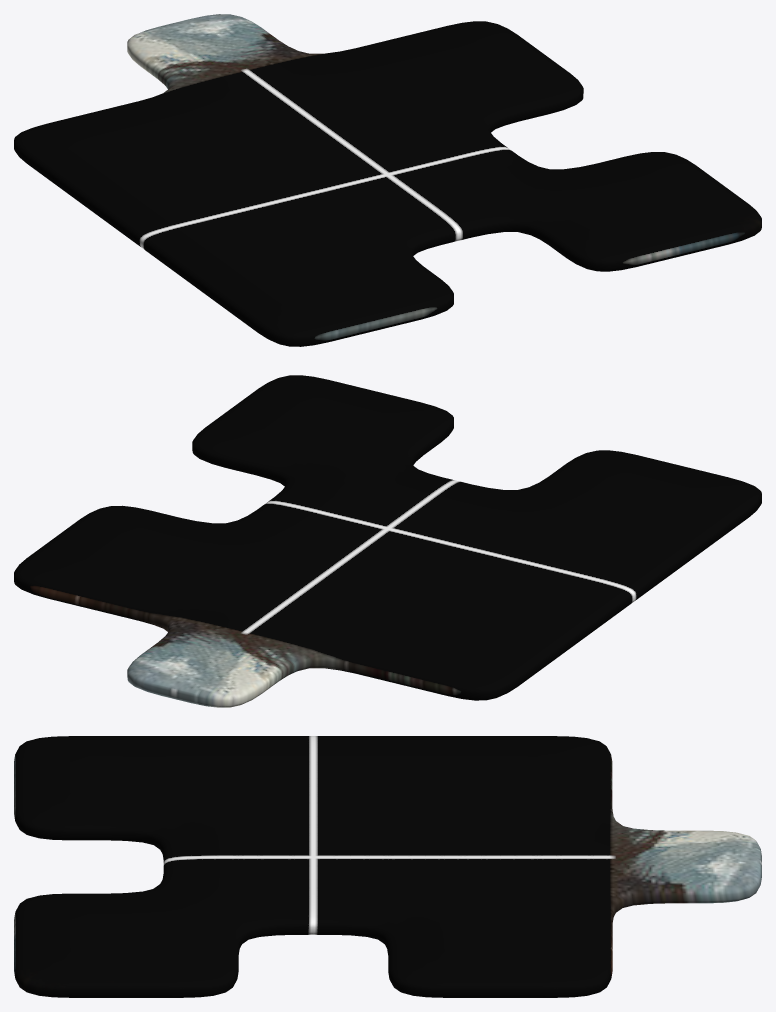
3 renders of one model, top to bottom at view 1: azimuth 30°, elevation 25°; view 2: azimuth 150°, elevation 25°; view 3: azimuth 270°, elevation 25°, orthographic. The views are drawn at different scales.
Visible parts, largest first — view 1: Puzzle.007_Puzzle.007_GoldenEggMaterial.002; view 2: Puzzle.007_Puzzle.007_GoldenEggMaterial.002; view 3: Puzzle.007_Puzzle.007_GoldenEggMaterial.002.
Part boxes in pixels (bbox=[...]): Puzzle.007_Puzzle.007_GoldenEggMaterial.002: bbox=[14, 14, 761, 346]; Puzzle.007_Puzzle.007_GoldenEggMaterial.002: bbox=[14, 375, 761, 707]; Puzzle.007_Puzzle.007_GoldenEggMaterial.002: bbox=[14, 736, 761, 997].
Bounding box in the file's own units: 0.25 × 0.00924 × 0.3137.
